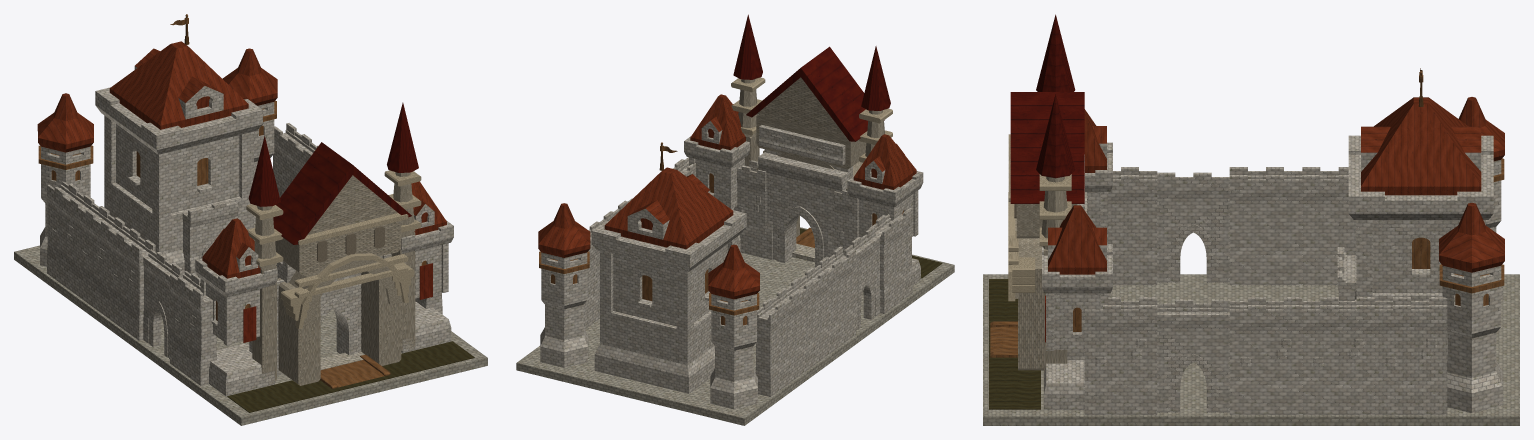
The picture shows the model from 3 angles, left to right: view 1: azimuth 30°, elevation 25°; view 2: azimuth 150°, elevation 25°; view 3: azimuth 270°, elevation 25°; orthographic projection. The views are drawn at different scales.
Visible parts, largest first — view 1: CastleStone, CastleTimberIron; view 2: CastleStone, CastleTimberIron; view 3: CastleStone, CastleTimberIron.
Boxes of the visible parts, <box> form: CastleStone: <box>14,66,487,425</box>; CastleTimberIron: <box>37,14,474,412</box>; CastleStone: <box>516,77,954,425</box>; CastleTimberIron: <box>538,14,942,325</box>; CastleStone: <box>983,134,1519,425</box>; CastleTimberIron: <box>989,14,1504,409</box>.
Size of the model in its own units: 11.6 by 11.45 by 18.5.
Materials: 2 (2 with a texture image).
